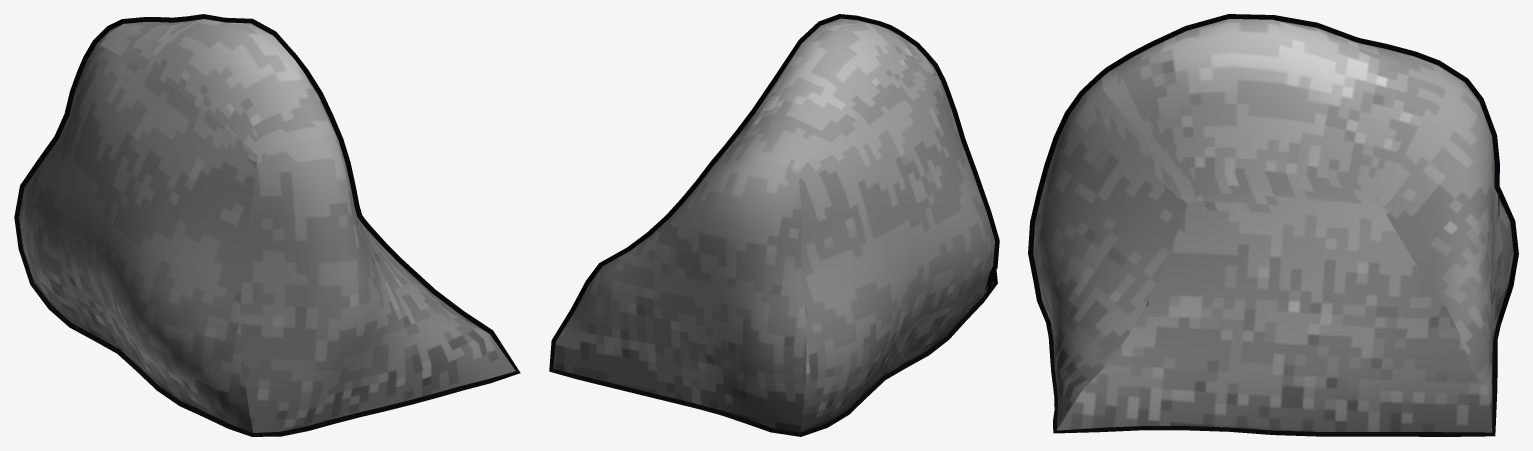
Rendered from stone1 no moss.fbx.
3 views of the same model, side by side, from view 1: azimuth 30°, elevation 25°; view 2: azimuth 150°, elevation 25°; view 3: azimuth 270°, elevation 25° (orthographic). The views are drawn at different scales.
Visible parts, largest first — view 1: Stone1 WO Moss, OL Stone003; view 2: Stone1 WO Moss, OL Stone003; view 3: Stone1 WO Moss, OL Stone003.
Part boxes in pixels (left/top/right/bottom): Stone1 WO Moss: left=19, top=19, right=515, bottom=432; OL Stone003: left=14, top=14, right=520, bottom=436; Stone1 WO Moss: left=553, top=18, right=994, bottom=432; OL Stone003: left=549, top=14, right=999, bottom=436; Stone1 WO Moss: left=1033, top=19, right=1513, bottom=432; OL Stone003: left=1028, top=14, right=1518, bottom=436.
Size of the model in its own units: 14.76 by 14.73 by 19.1.
Materials: 2 (1 with a texture image).
